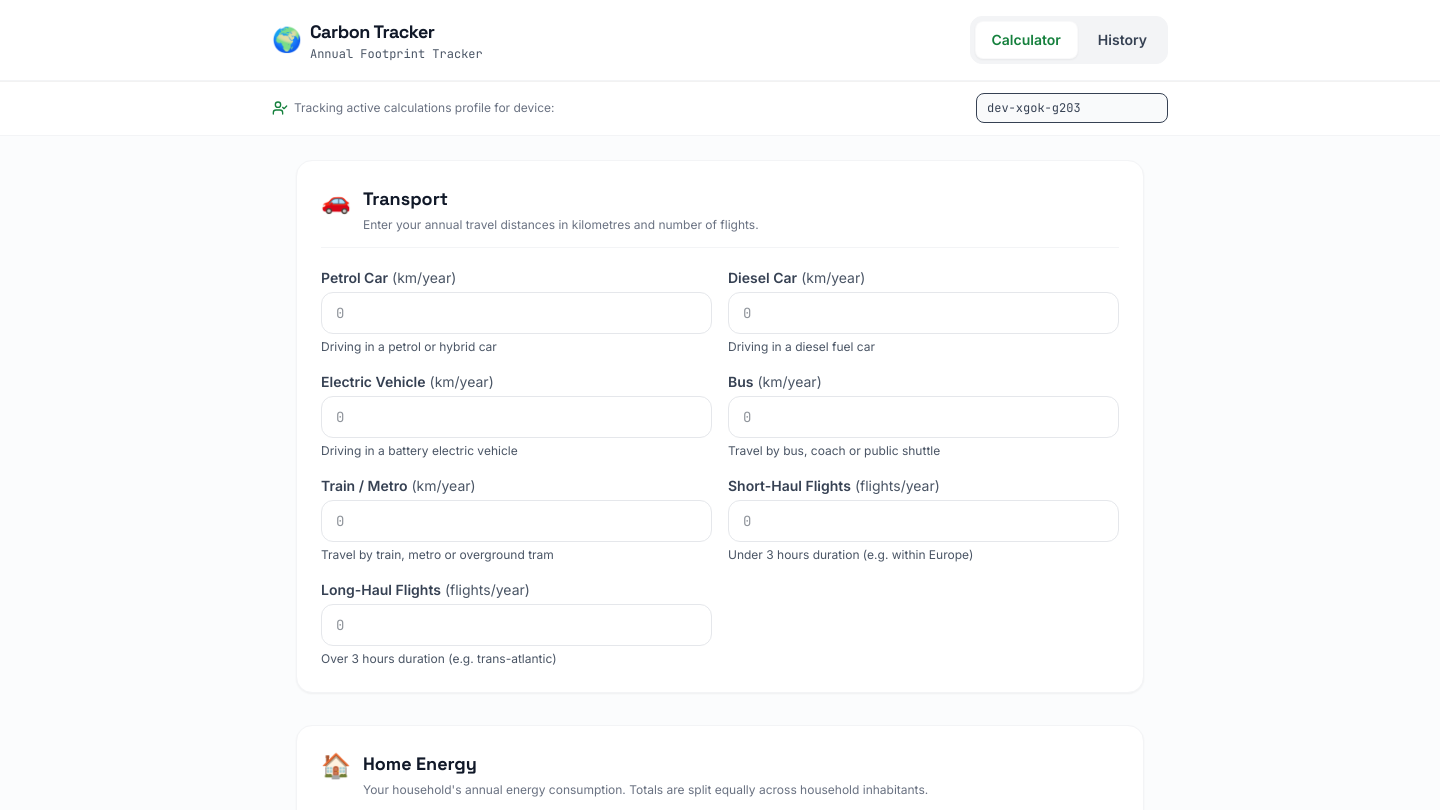
Test: App Component Extensive Flows › History and Deletion Flows › handles delete history entry flow
The image size is (1440, 810).
Note: Go to History tab
Step 1. Click the tab "History" → (1122, 40), box [1082,22,1163,58]
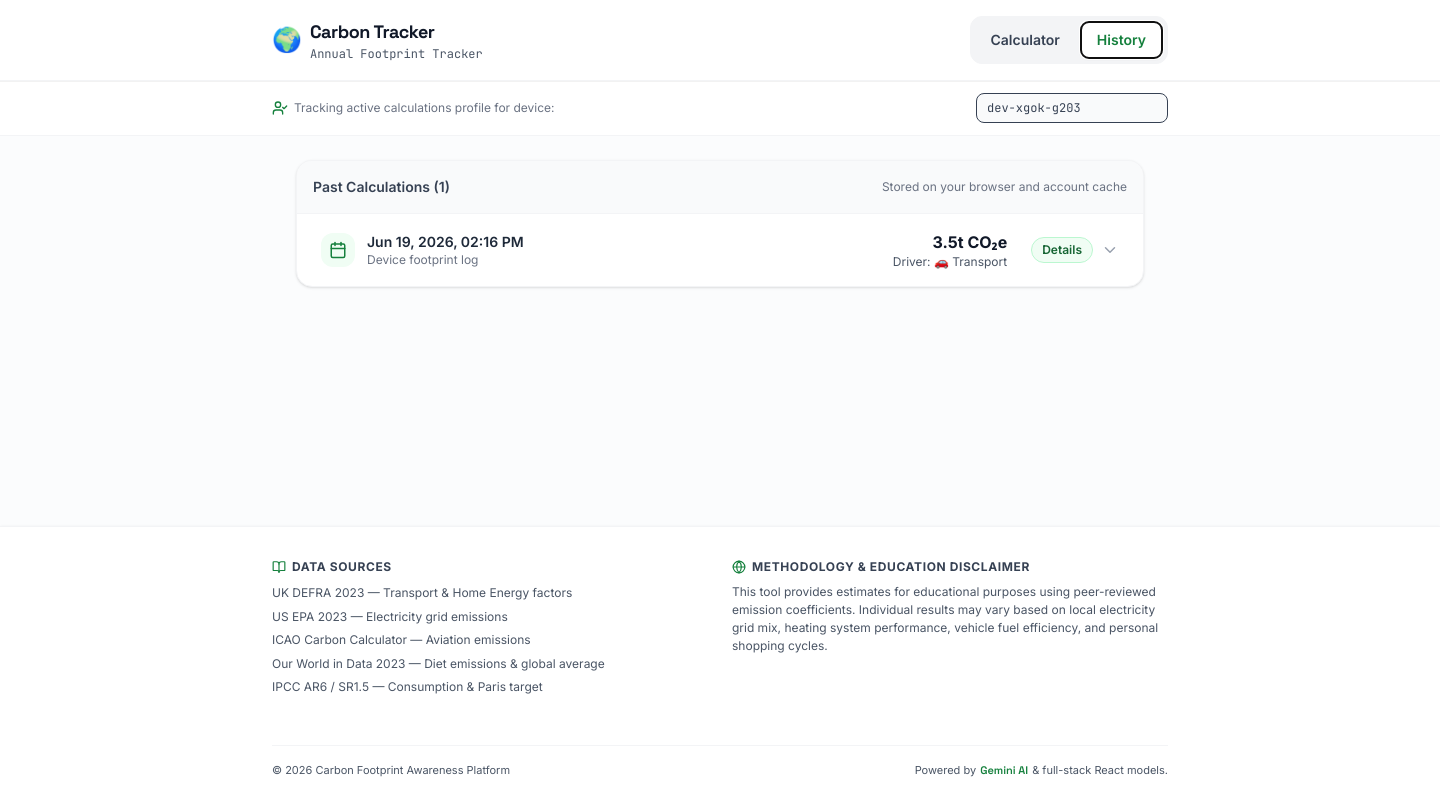
Expected: the heading "Past Calculations (1)" is shown, [313,177,450,197]
Note: Expand row
Step 2. Click the button "Device footprint log" → (338, 250), box [297,214,1143,286]
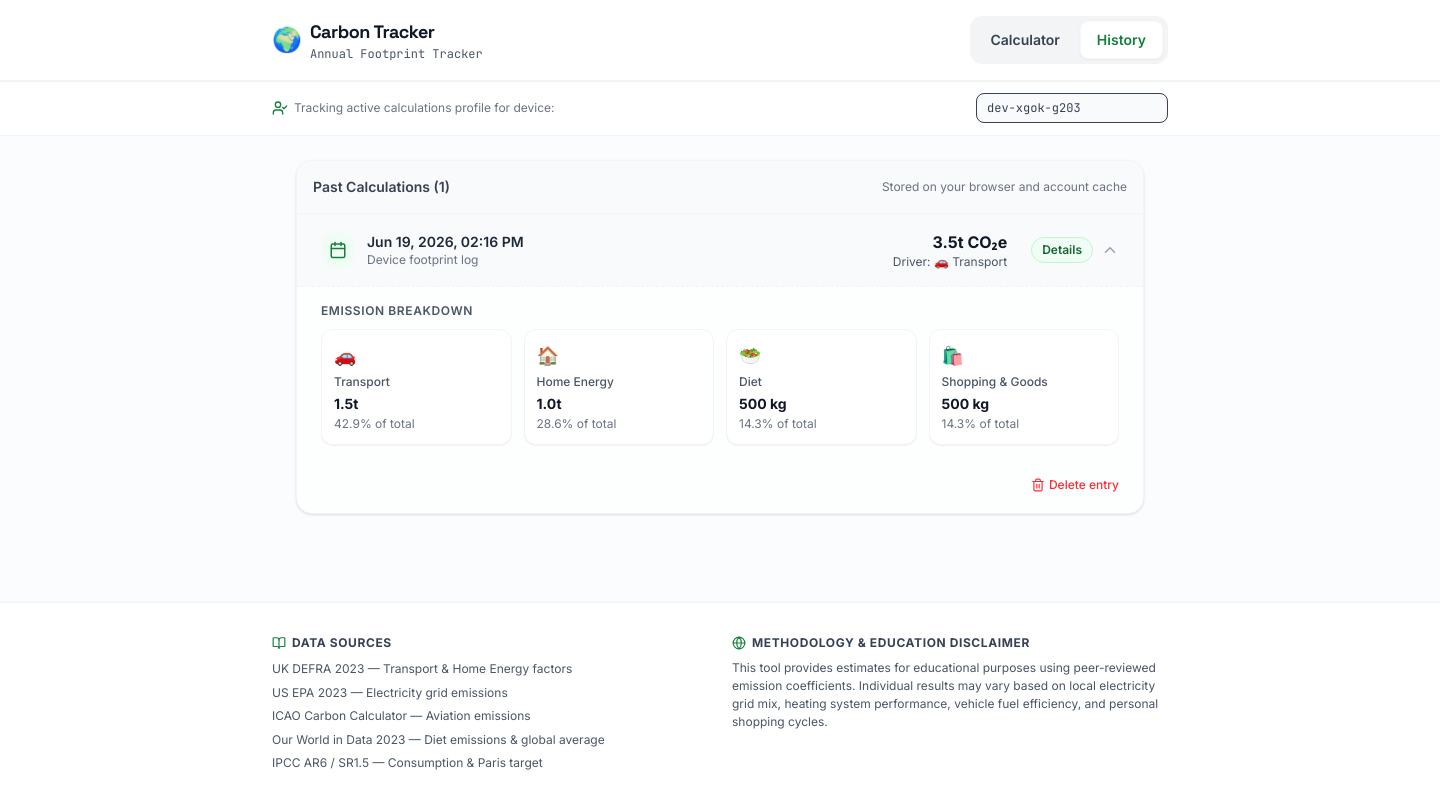
Note: Trigger deletion
Step 3. Click the button "Delete entry" → (1075, 485), box [1031,477,1119,493]
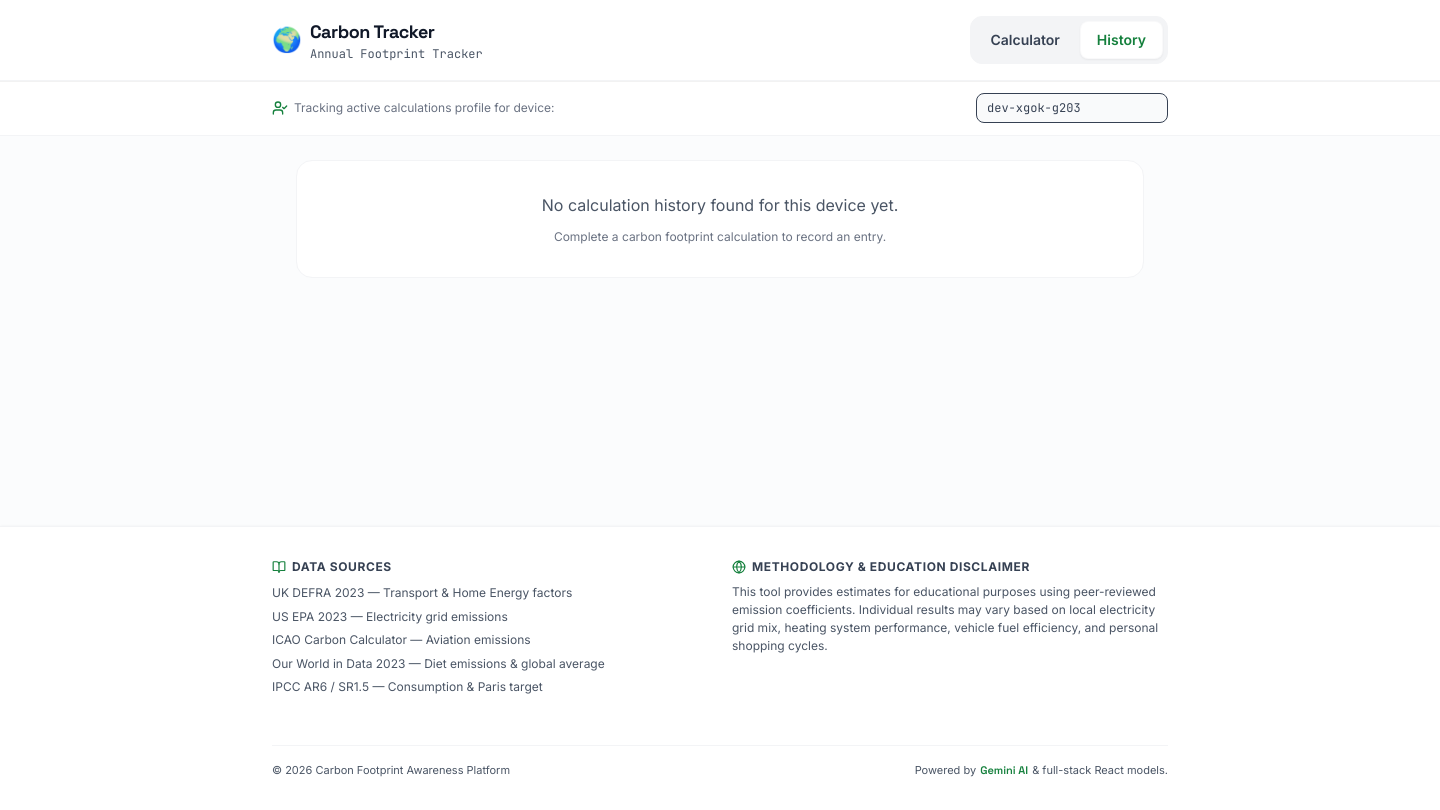
Expected: the text "No calculation history found for this device yet." is shown, [542,195,898,215]
